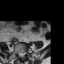CCS_normal: (21, 51, 23, 59)
LFS_stenosis: (25, 50, 26, 55)
LLS_normal: (23, 51, 24, 57)
RFS_normal: (16, 51, 18, 56)
RLS_normal: (18, 51, 20, 58)
